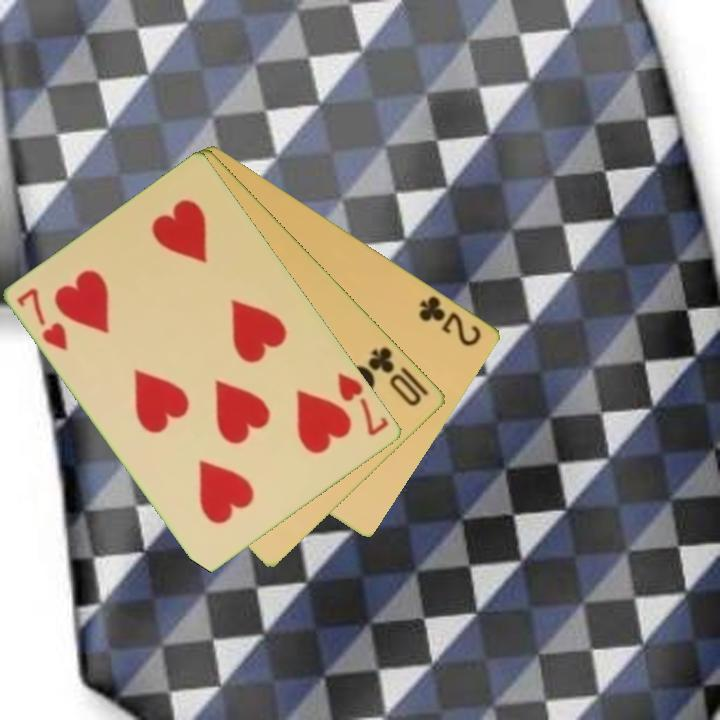10c: (365, 343, 425, 410)
2c: (416, 292, 485, 350)
7h: (334, 369, 392, 439), (14, 284, 71, 355)
